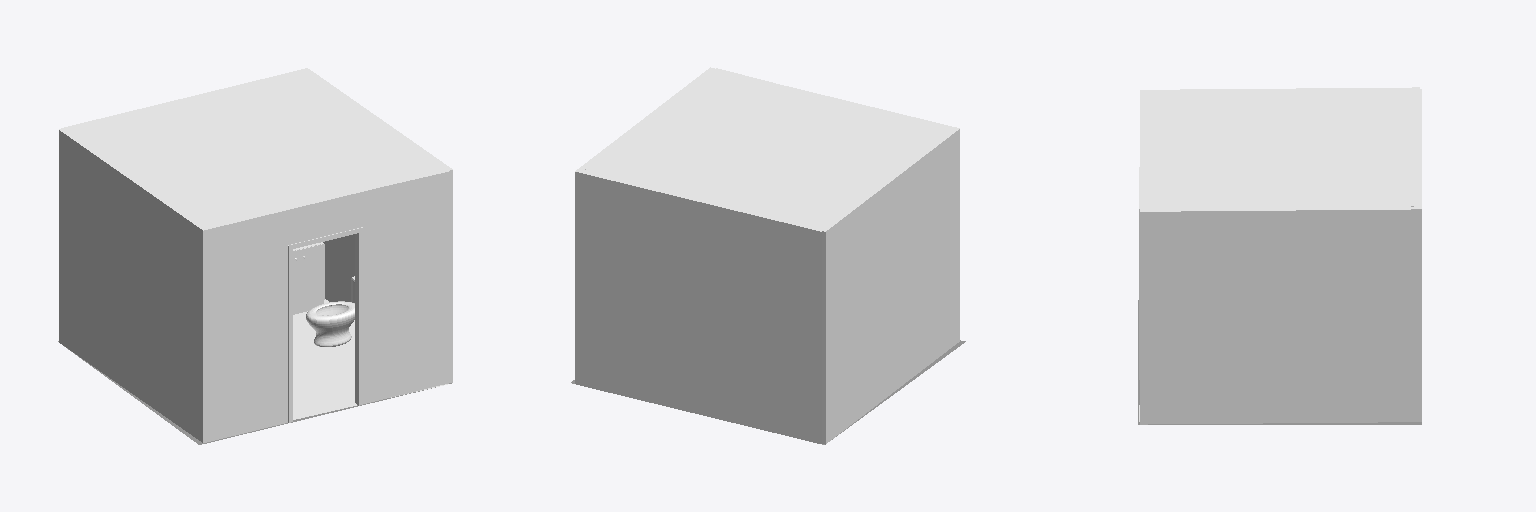
File: baño1.obj
The picture shows the model from 3 angles: view 1: azimuth 30°, elevation 25°; view 2: azimuth 150°, elevation 25°; view 3: azimuth 270°, elevation 25°; orthographic projection.
Visible parts, largest first — view 1: wall_2_11, room_5_27, wall_1_5, room_5_26, Montant_28, wall_3_16, Bas_95, Porte_1_109, ground_1; view 2: wall_4_23, room_5_27, wall_1_5; view 3: wall_3_17, room_5_27, ground_1.
Part boxes in pixels (x1,y1,x2,y2): wall_2_11: (203,170,452,442); room_5_27: (63,72,448,227); wall_1_5: (59,130,202,442); room_5_26: (293,299,447,419); Montant_28: (288,227,362,422); wall_3_16: (323,234,354,301); Bas_95: (306,301,354,346); Porte_1_109: (300,244,324,305); ground_1: (58,341,451,444); wall_4_23: (575,172,821,443); room_5_27: (585,68,950,227); wall_1_5: (822,129,959,444); wall_3_17: (1140,209,1421,424); room_5_27: (1139,89,1419,208); ground_1: (1138,300,1421,424).
Bounding box in the file's own units: 314 × 250 × 302.